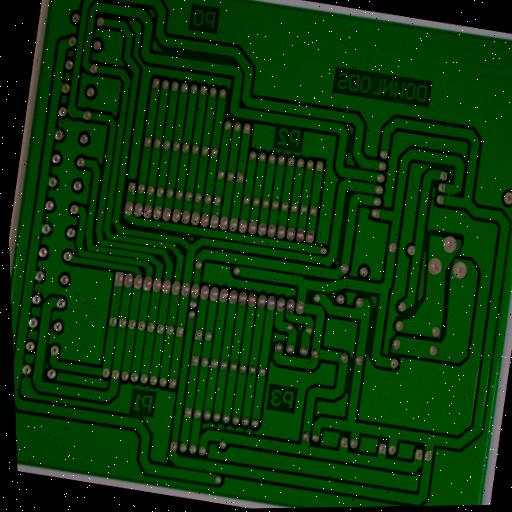short_circuit: (436, 181, 458, 206), (338, 168, 357, 192), (269, 206, 288, 227)
